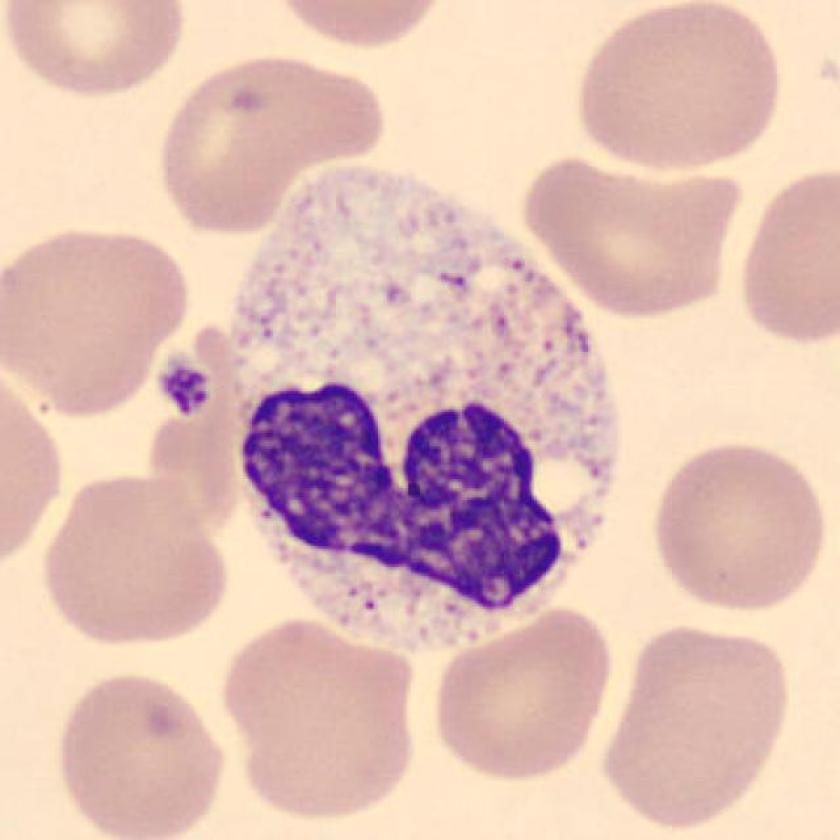neutrophil: (232, 164, 614, 652)
